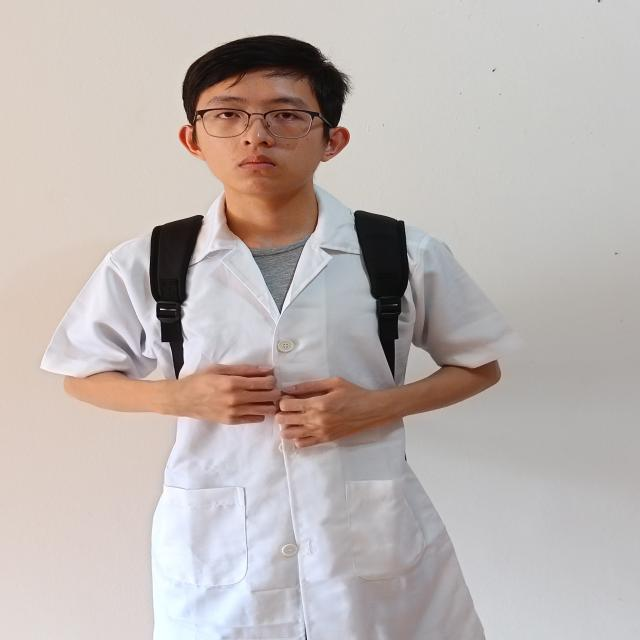person_with_labcoat: (41, 36, 521, 640)
